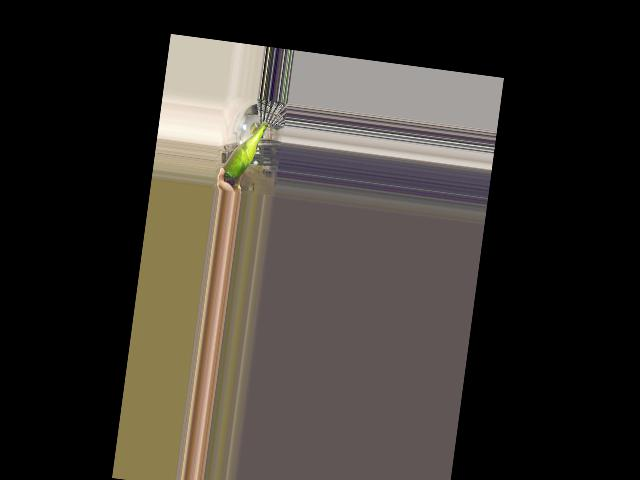beer: (219, 116, 270, 188)
